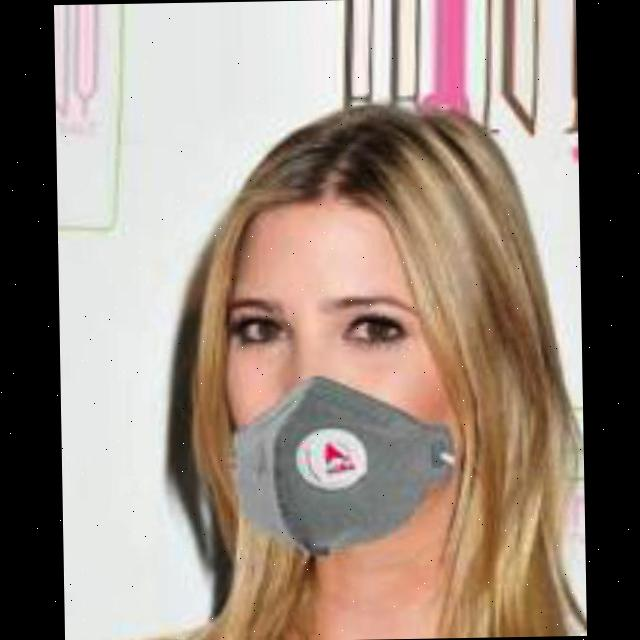suspicion: (136, 140, 549, 581)
